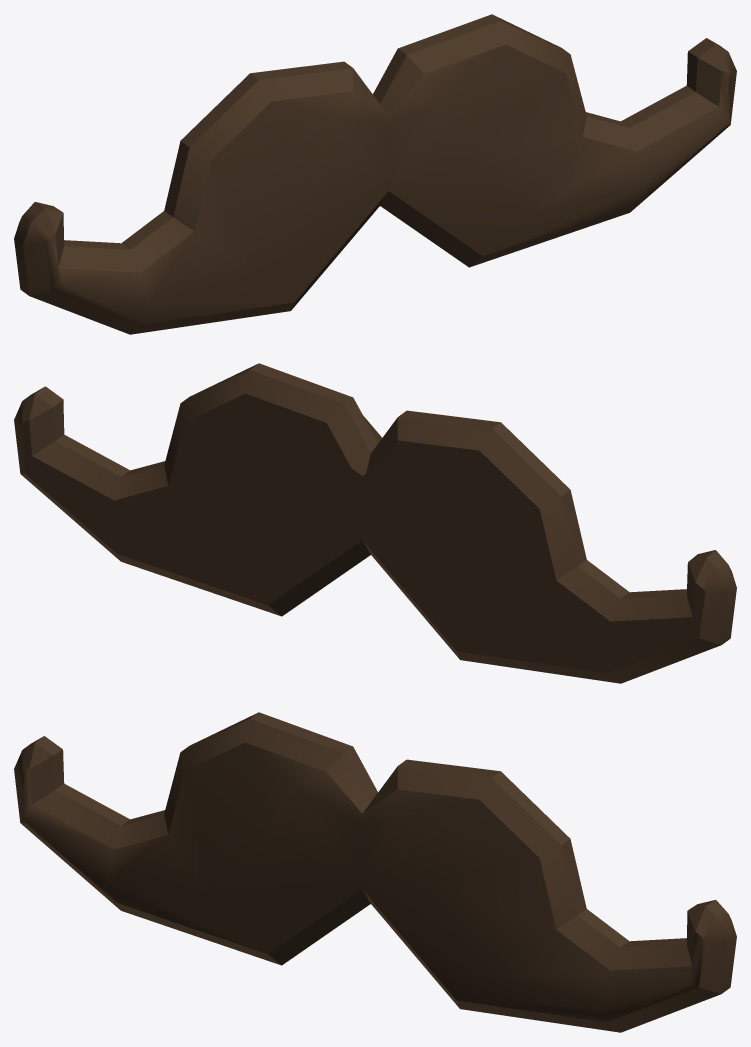
Rendered from Vello_Bigote.fbx.
3 renders of one model, top to bottom at view 1: azimuth 30°, elevation 25°; view 2: azimuth 150°, elevation 25°; view 3: azimuth 330°, elevation 25°, orthographic.
Parts seen in each view (by area): view 1: Bigote_1; view 2: Bigote_1; view 3: Bigote_1.
Boxes of the visible parts, <box> form: Bigote_1: <box>14,14,736,334</box>; Bigote_1: <box>14,363,736,683</box>; Bigote_1: <box>14,712,736,1032</box>.
Bounding box in the file's own units: 0.7949 × 0.2542 × 0.0644.
